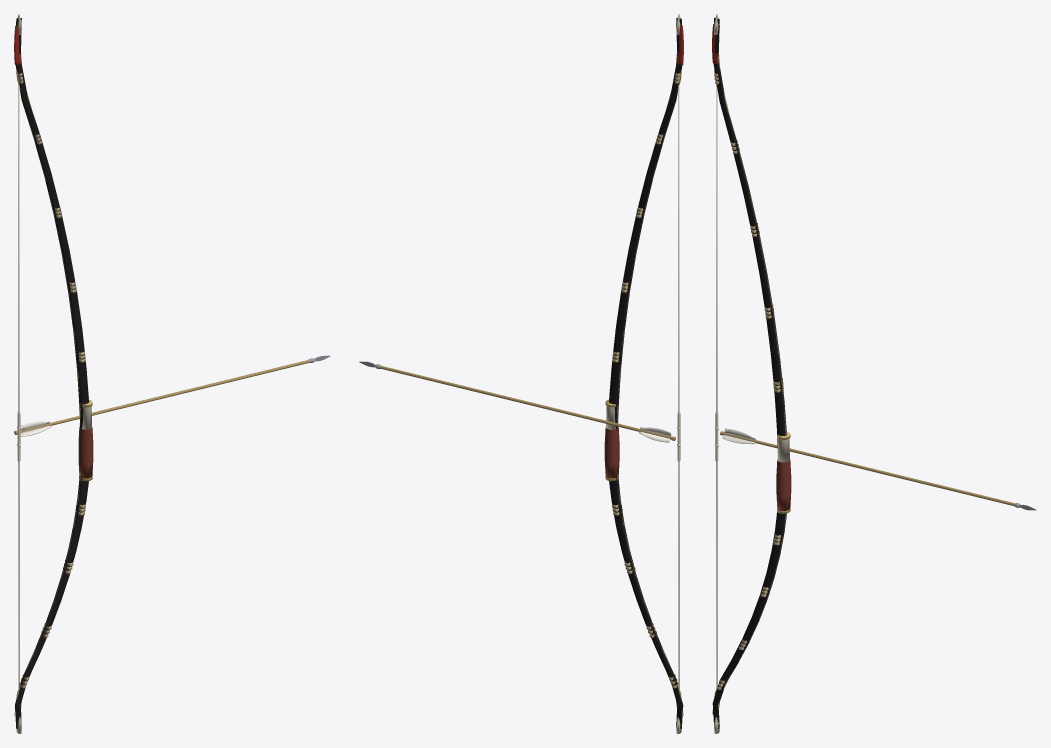
File: gear_edo_yumi.glb
The picture shows the model from 3 angles, left to right: view 1: azimuth 30°, elevation 25°; view 2: azimuth 150°, elevation 25°; view 3: azimuth 330°, elevation 25°; orthographic projection.
Visible parts, largest first — view 1: gear_edo_yumi; view 2: gear_edo_yumi; view 3: gear_edo_yumi.
Boxes of the visible parts, left/top/right/bottom form: gear_edo_yumi: left=14, top=14, right=330, bottom=733; gear_edo_yumi: left=359, top=14, right=683, bottom=733; gear_edo_yumi: left=712, top=14, right=1036, bottom=733.
Size of the model in its own units: 1.03 by 2.21 by 0.0613.
